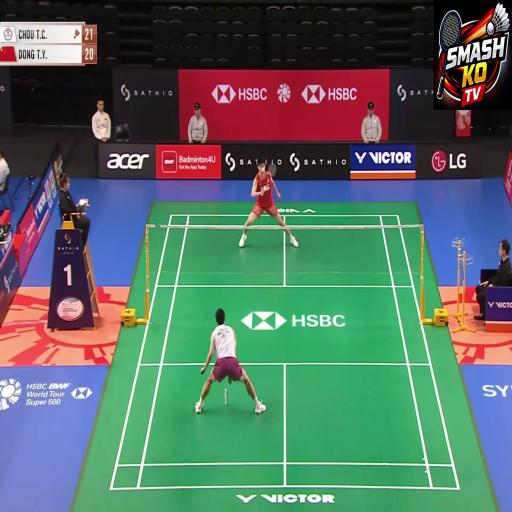player: (202, 279, 262, 471), (231, 112, 293, 256)
